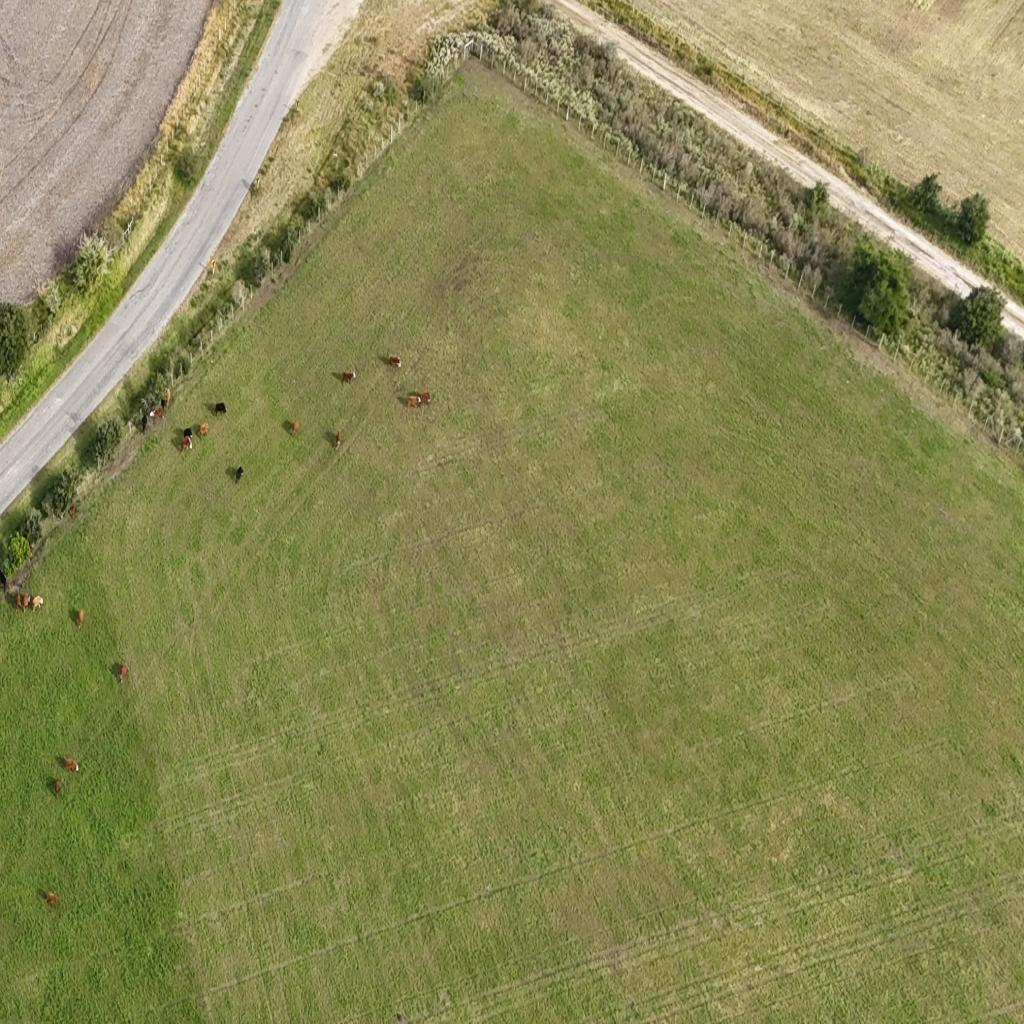cow: (116, 665, 129, 687), (420, 388, 433, 408), (64, 757, 80, 773), (407, 394, 422, 410), (151, 404, 164, 422), (33, 594, 45, 613), (46, 891, 60, 906), (177, 438, 194, 450), (22, 594, 33, 611), (389, 355, 402, 369), (342, 370, 355, 384), (140, 414, 148, 434), (214, 403, 227, 415), (181, 428, 193, 440), (54, 777, 62, 794), (199, 423, 208, 438), (292, 420, 300, 436), (144, 404, 152, 420), (336, 429, 342, 449), (236, 466, 244, 481), (78, 612, 85, 629), (70, 502, 77, 518), (164, 388, 170, 405), (15, 592, 21, 608), (29, 544, 35, 558)
